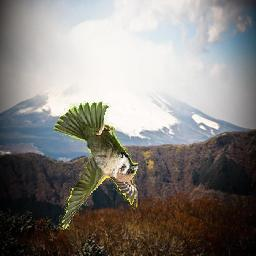Sparrow: (54, 101, 139, 231)
